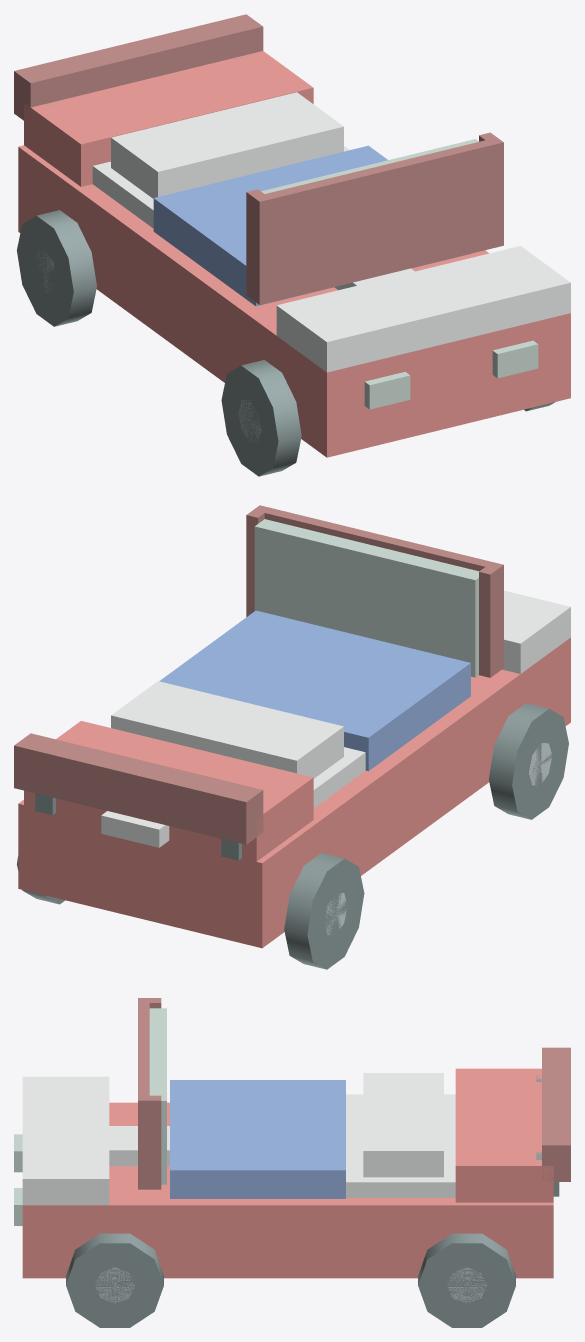
The model's file is bedRaceCar.glb.
3 views of the same model, one above another, from view 1: azimuth 30°, elevation 25°; view 2: azimuth 150°, elevation 25°; view 3: azimuth 270°, elevation 25° (orthographic). The views are drawn at different scales.
Parts seen in each view (by area): view 1: bedRaceCar; view 2: bedRaceCar; view 3: bedRaceCar.
Boxes of the visible parts, x1,y1,x2,y2 form: bedRaceCar: [14, 14, 570, 476]; bedRaceCar: [14, 505, 570, 969]; bedRaceCar: [14, 998, 570, 1327].
Size of the model in its own units: 0.5 by 0.4158 by 0.965.
